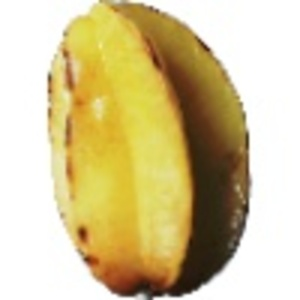carambola: (47, 1, 252, 300)
